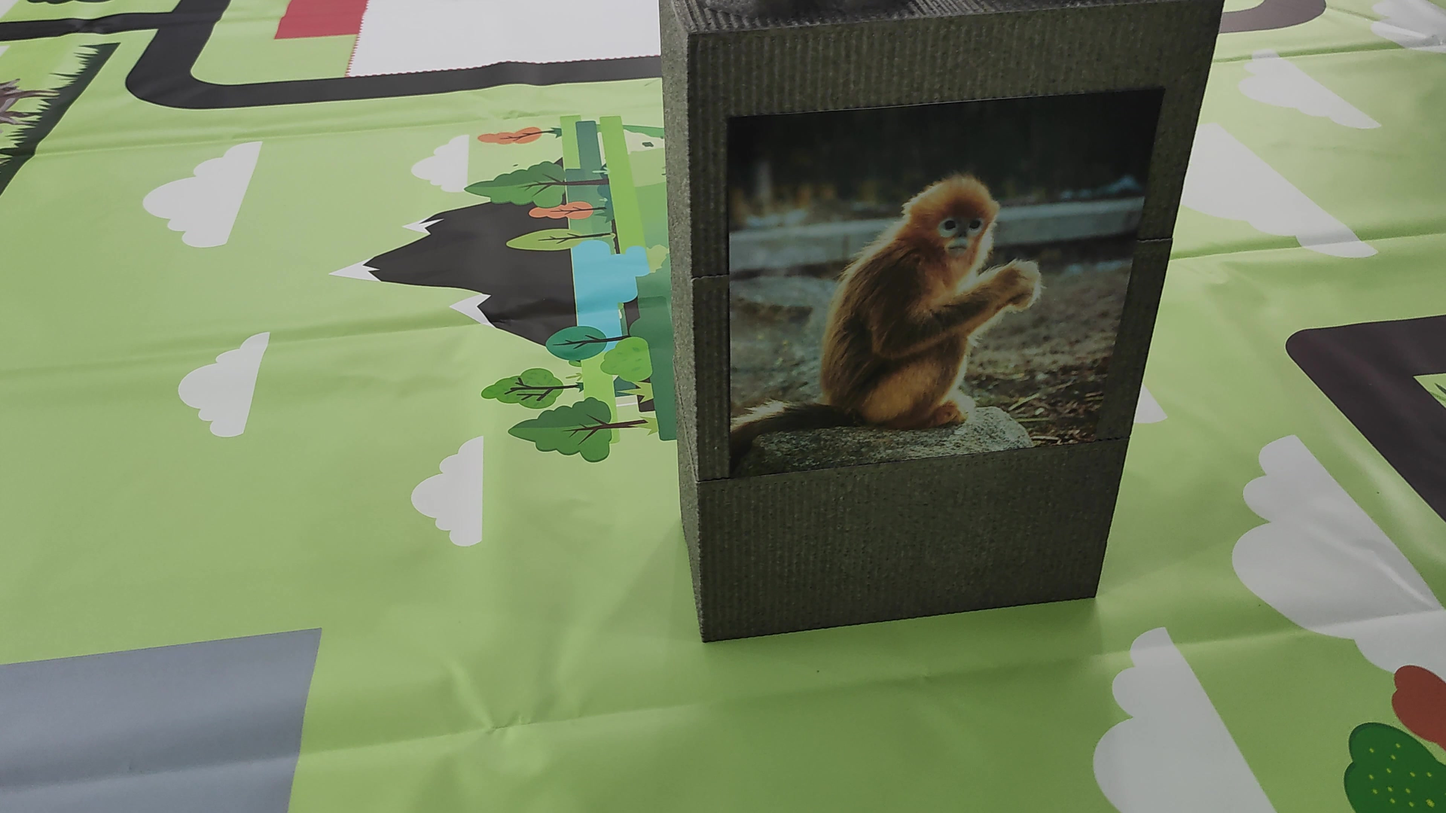monkey: (806, 164, 1135, 456)
